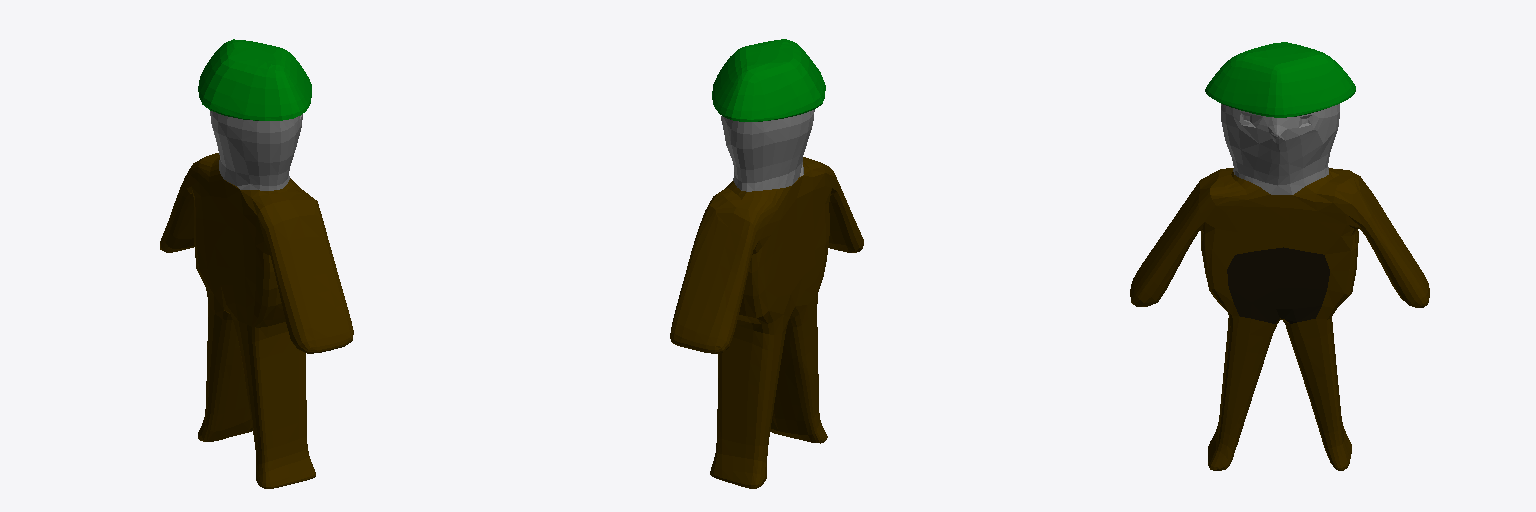
File: TeddyBear.obj
3 views of the same model, side by side, from view 1: azimuth 30°, elevation 25°; view 2: azimuth 150°, elevation 25°; view 3: azimuth 270°, elevation 25° (orthographic).
Visible parts, largest first — view 1: pCube1; view 2: pCube1; view 3: pCube1.
Part boxes in pixels (left/top/right/bottom): pCube1: left=160, top=39, right=353, bottom=488; pCube1: left=670, top=39, right=863, bottom=488; pCube1: left=1130, top=42, right=1429, bottom=470.
Bounding box in the file's own units: 1.75 × 6.67 × 4.46.